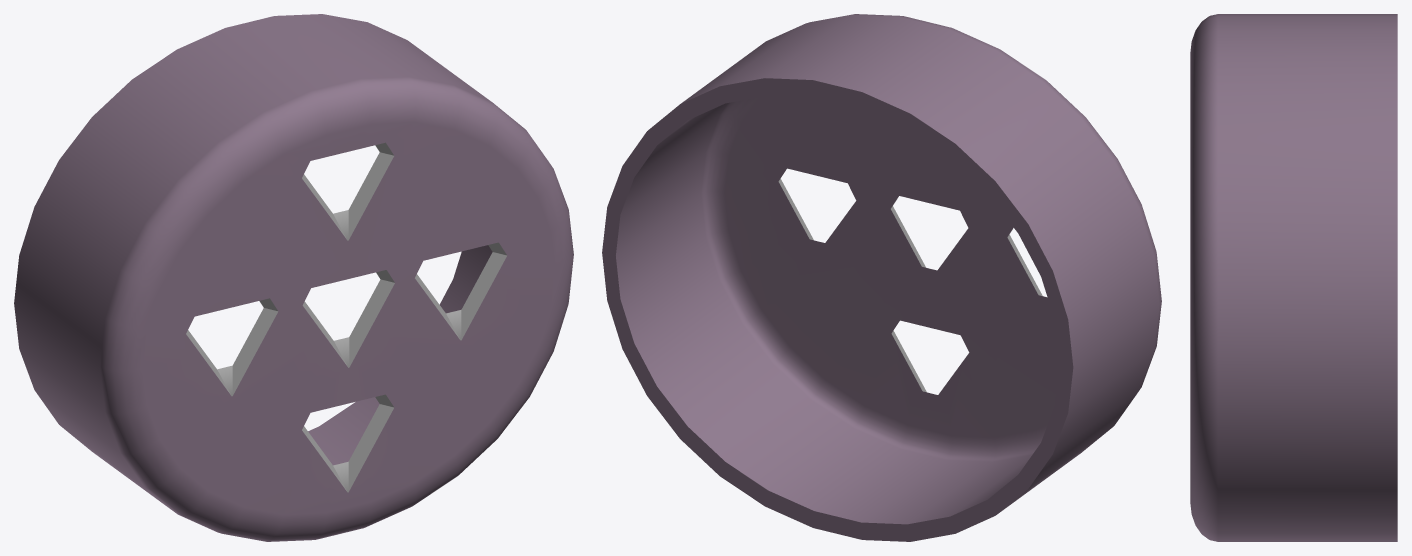
The model's file is pig_diamond.fbx.
3 views of the same model, side by side, from view 1: azimuth 30°, elevation 25°; view 2: azimuth 150°, elevation 25°; view 3: azimuth 270°, elevation 25° (orthographic). The views are drawn at different scales.
Parts seen in each view (by area): view 1: polySurface44; view 2: polySurface44; view 3: polySurface44.
Part boxes in pixels (x1,y1,x2,y2): polySurface44: (14, 14, 573, 541); polySurface44: (602, 14, 1161, 541); polySurface44: (1190, 14, 1397, 541).
Size of the model in its own units: 8.15 by 7.4 by 2.97.
